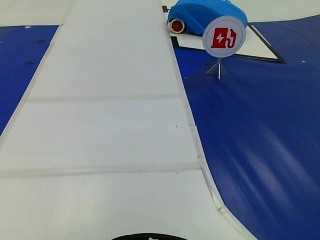battery: (206, 19, 247, 53)
car: (157, 1, 246, 33)
